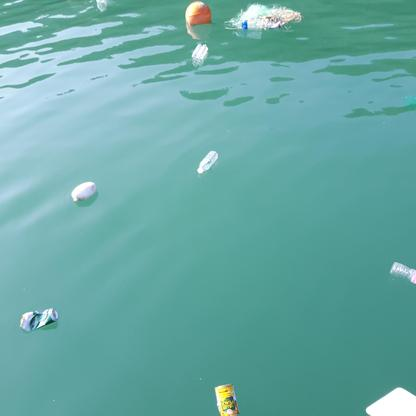can: (211, 380, 241, 416), (18, 309, 59, 331)
plastic bottle: (389, 260, 416, 287), (197, 150, 218, 174), (229, 20, 263, 29)
